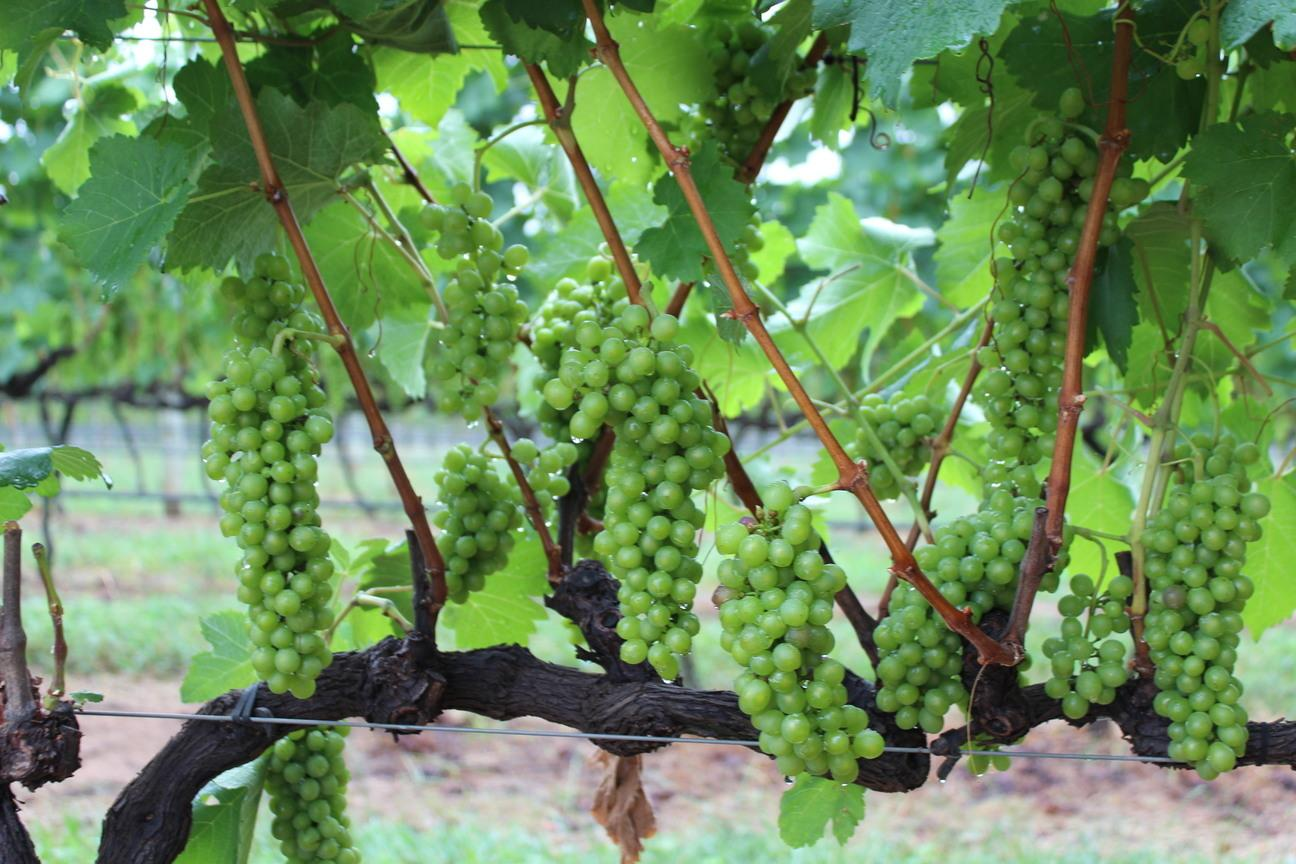leaf: (787, 193, 933, 367), (61, 135, 193, 297), (812, 0, 1007, 105), (166, 106, 278, 270), (257, 89, 386, 221), (1183, 113, 1295, 259), (438, 530, 548, 649), (174, 754, 267, 862), (1241, 473, 1295, 638), (479, 0, 591, 76), (934, 190, 1003, 306), (635, 174, 708, 279), (1085, 237, 1138, 372), (180, 611, 255, 700), (692, 140, 753, 248), (779, 773, 864, 846), (0, 0, 126, 48), (374, 301, 429, 398), (1220, 0, 1295, 48), (771, 318, 789, 332)
